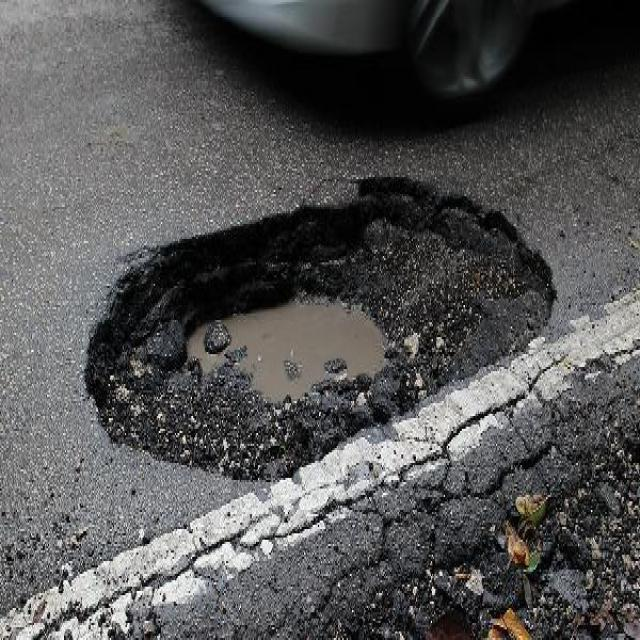pothole: (86, 177, 550, 490)
